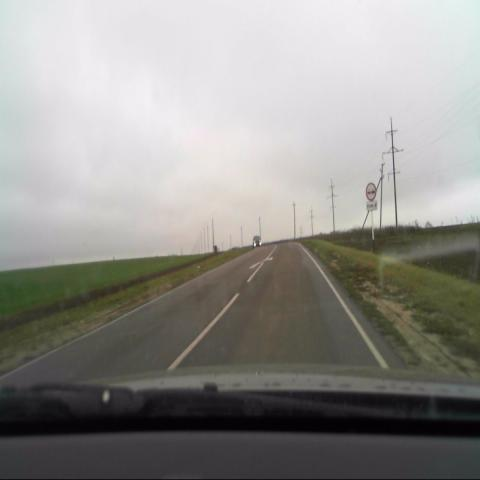3_20: (366, 183, 376, 199)
